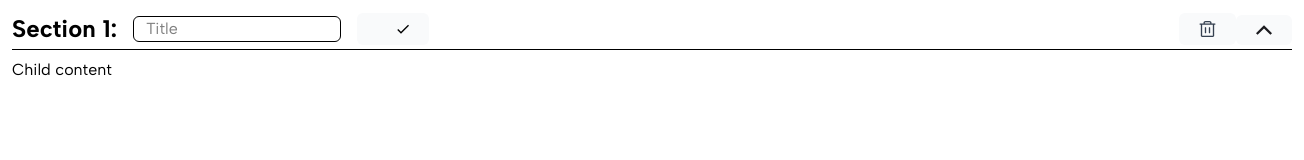
Scenario: SyllabusExpansionWrapper › shows error if duplicate title is detected
In the field with test id "inputTitle": (237, 29) [133,16,341,42], type "DuplicateTitle"
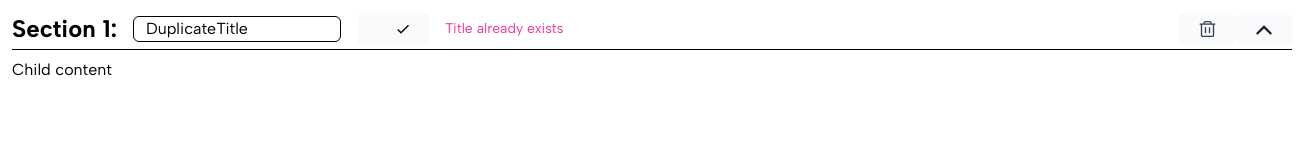
Now the text "Title already exists" is shown, box [445,19,563,39]
